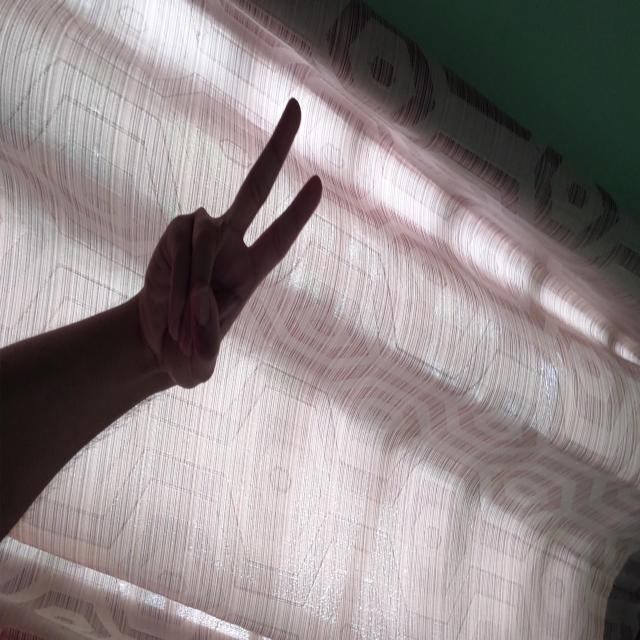V: (96, 315, 390, 501)
